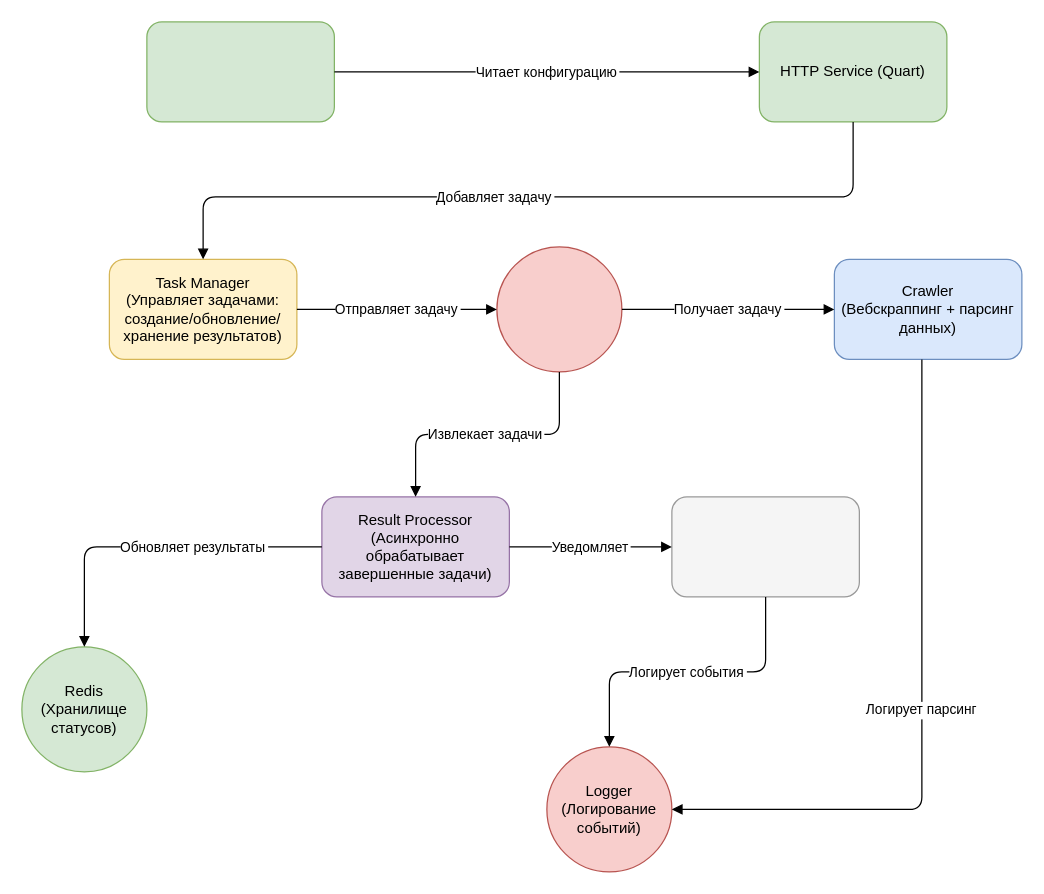
Image size: 1044x894. Some labels were removed from this diagram. The centre of each missing label's shape, as x and y in pixels:
"Alert Handler (Уведомляет о том, что происходит в системе)" goes at (765,546).
"Config Loader (Загрузка конфигурации)" goes at (240,71).
"RabbitMQ (Составляет очередь задач)" goes at (559,309).
